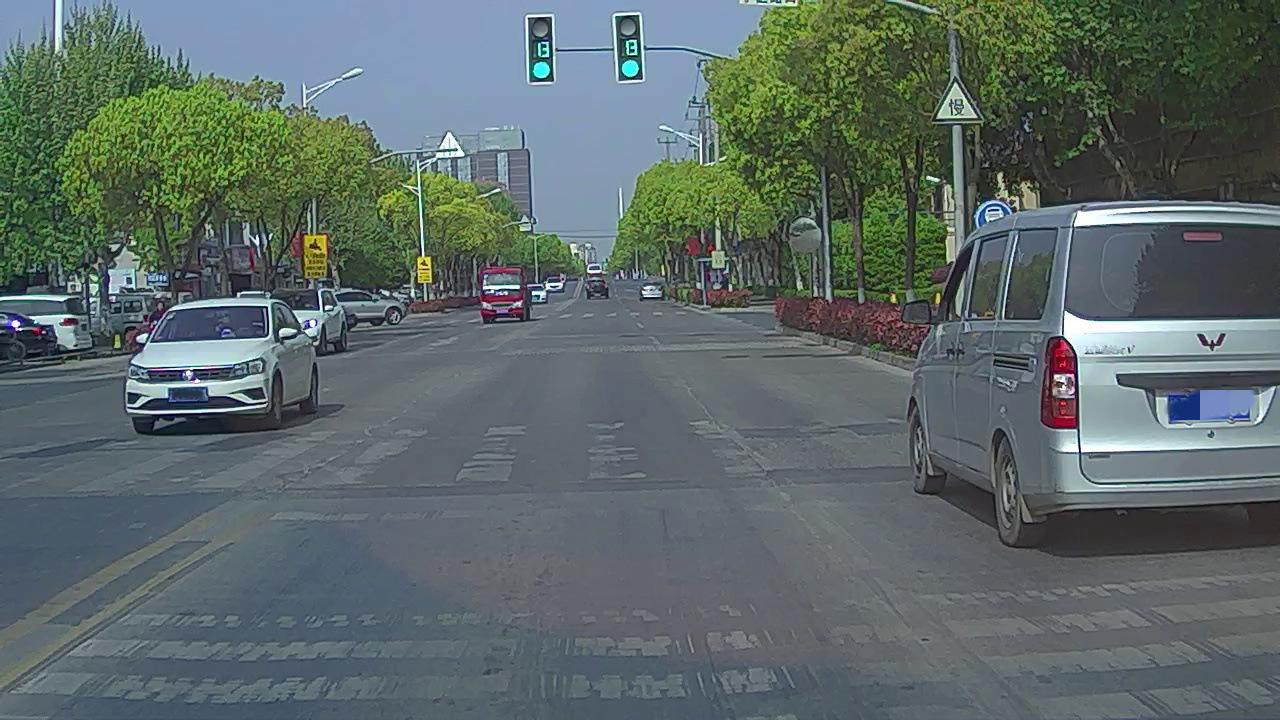traffic_light: (527, 15, 554, 85), (615, 14, 642, 79)
